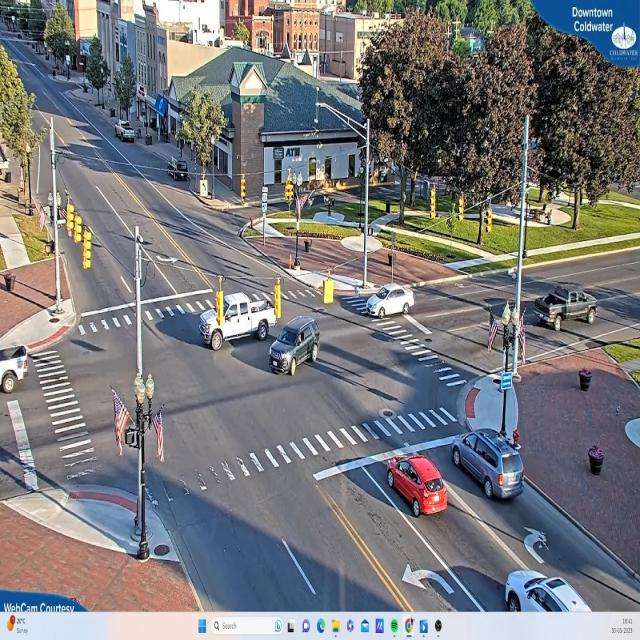car: (454, 429, 526, 500), (202, 292, 278, 352), (386, 456, 449, 519), (503, 572, 607, 610), (271, 318, 321, 376), (363, 285, 412, 318), (1, 343, 28, 395), (116, 123, 136, 143)
